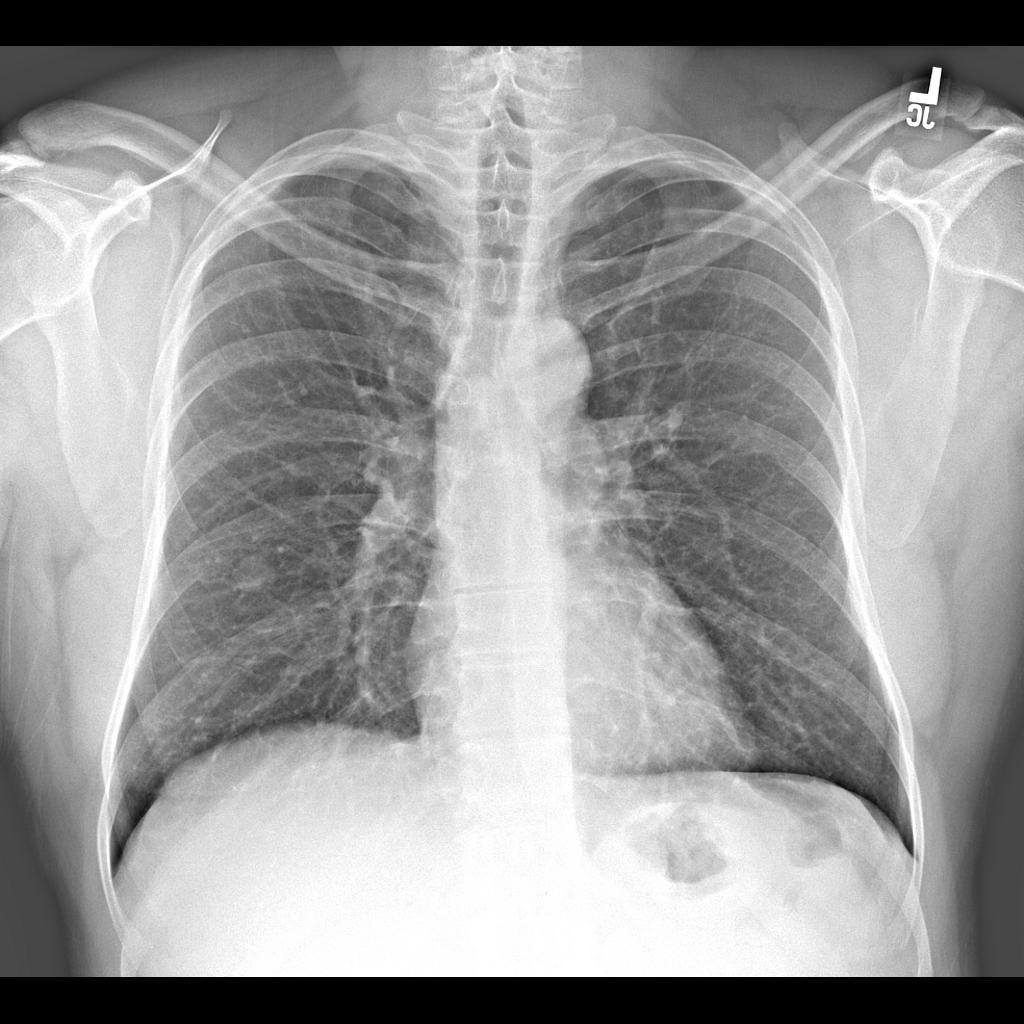Nodule: (231, 541, 282, 602)
